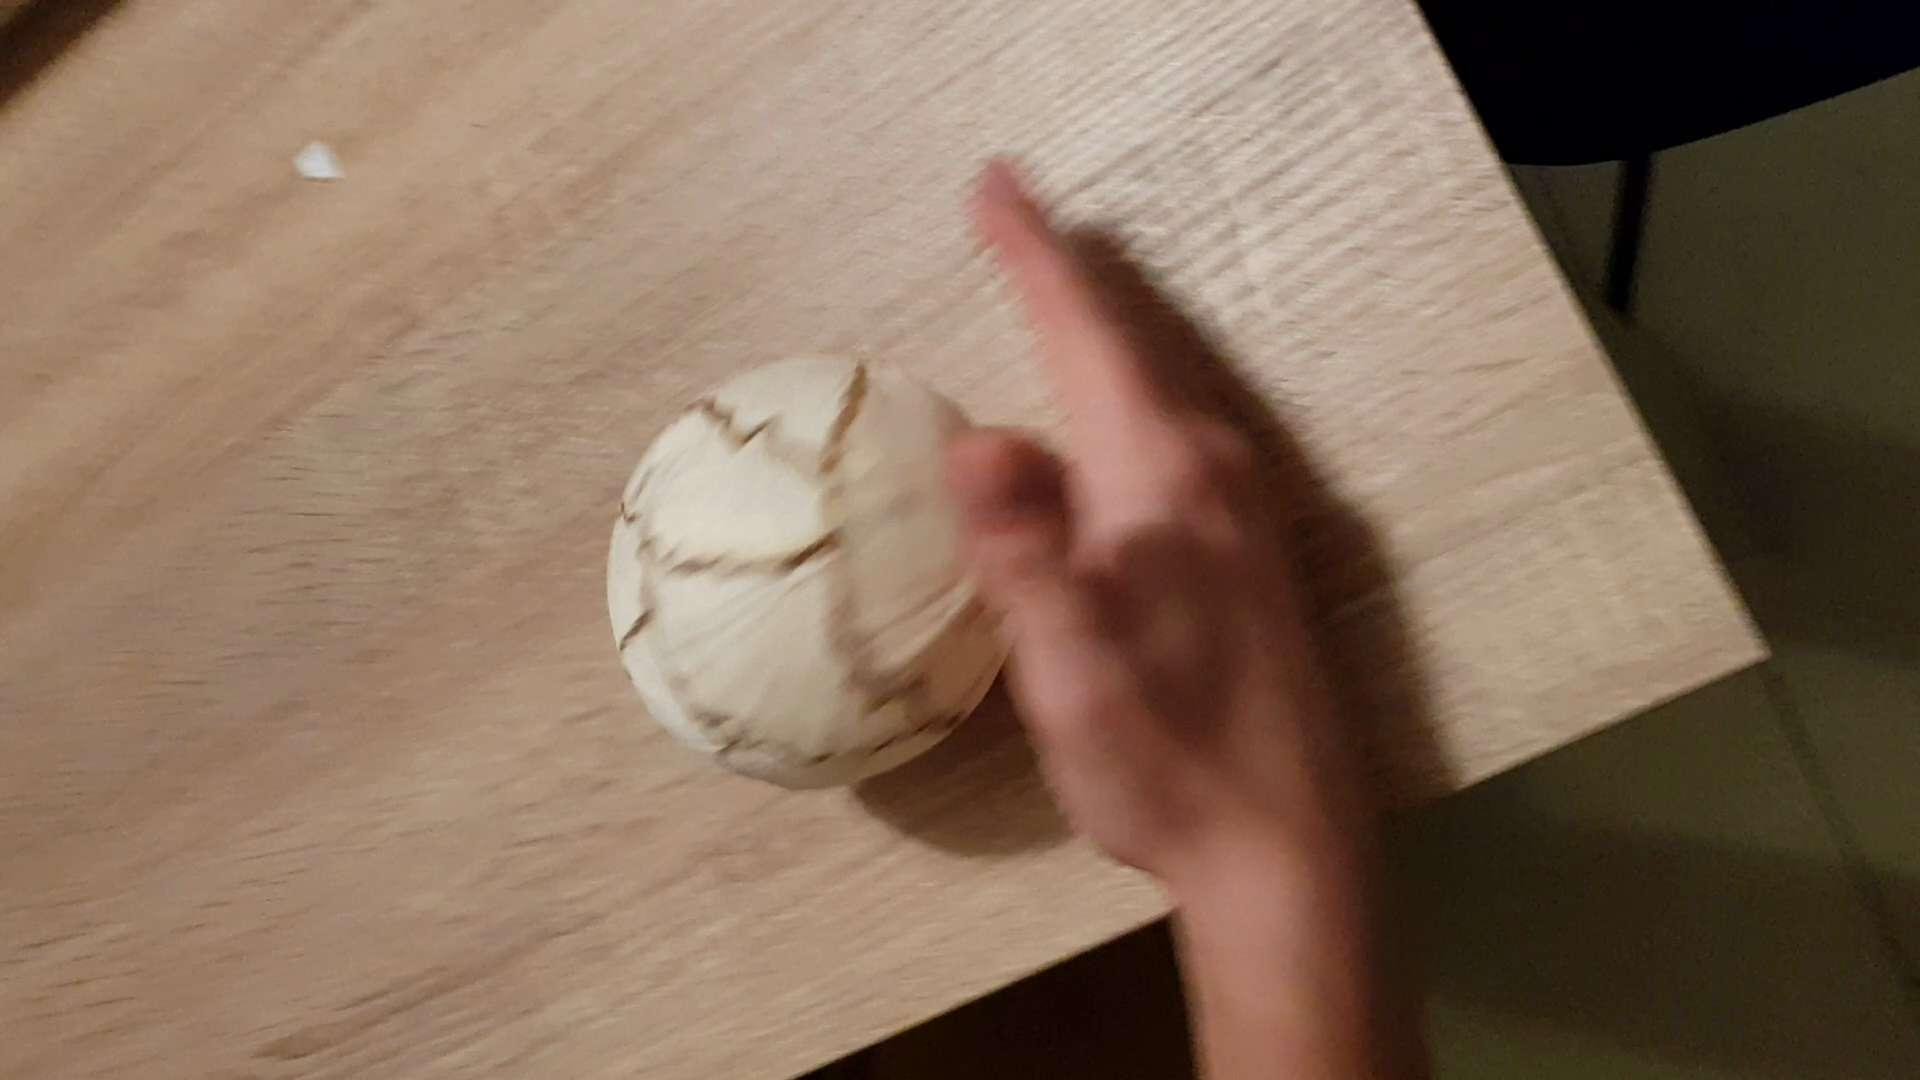sphere: (601, 349, 988, 779)
